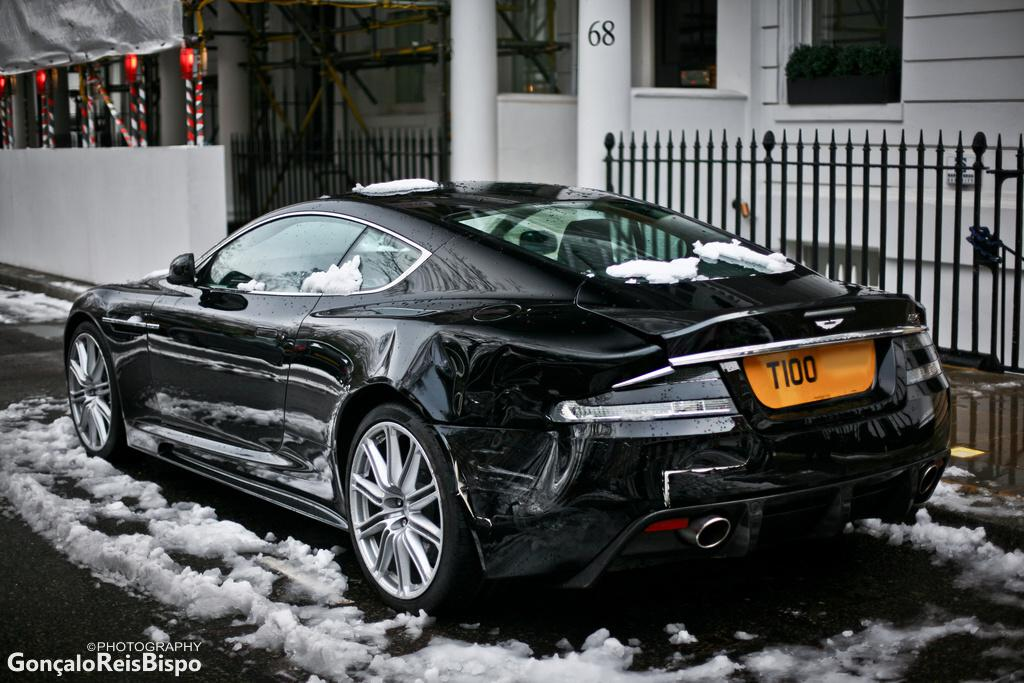boot-dent: (553, 280, 900, 452)
quaterpanel-dent: (371, 314, 548, 522)
